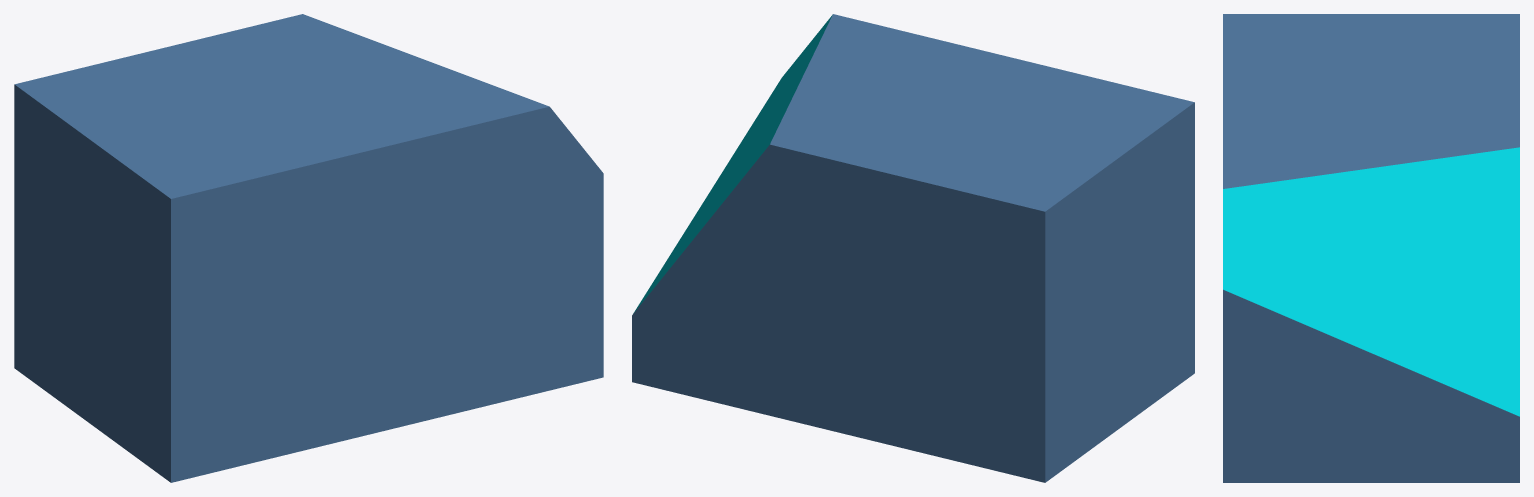
The picture shows the model from 3 angles, left to right: view 1: azimuth 30°, elevation 25°; view 2: azimuth 150°, elevation 25°; view 3: azimuth 270°, elevation 25°; orthographic projection. The views are drawn at different scales.
Visible parts, largest first — view 1: base; view 2: base; view 3: base.
Part boxes in pixels (x1,y1,x2,y2): base: (14,14,603,482); base: (632,14,1194,482); base: (1223,14,1519,482).
Size of the model in its own units: 92.98 by 58.33 by 58.33.
